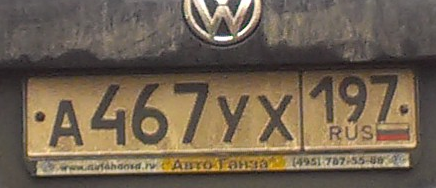character: (172, 79, 212, 149), (130, 84, 172, 149), (89, 83, 130, 147), (256, 94, 297, 146), (49, 98, 85, 152), (214, 92, 250, 146), (337, 75, 370, 124), (307, 74, 337, 125), (370, 75, 400, 121)
